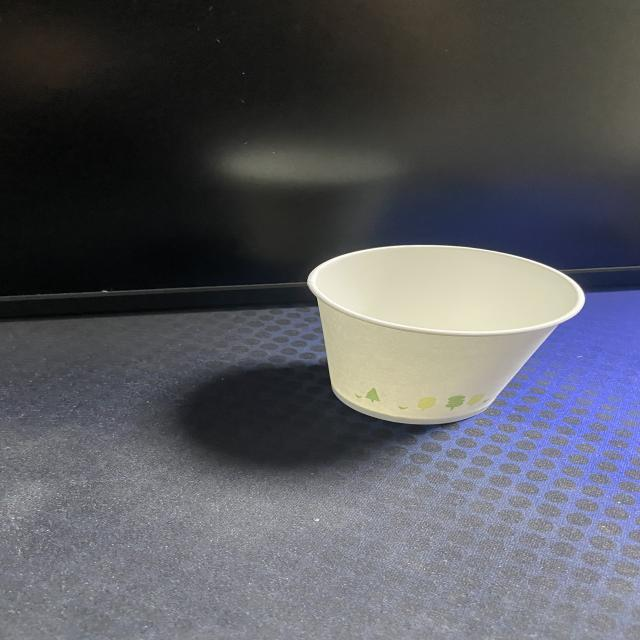trash: (306, 244, 586, 426)
